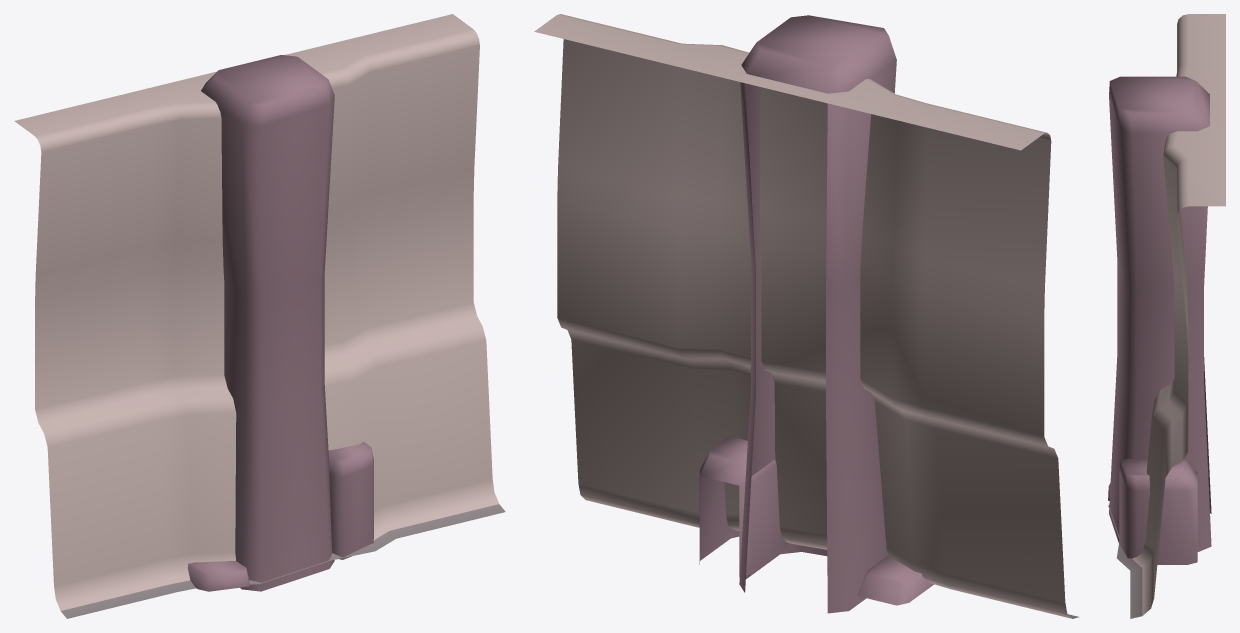
The model's file is 1_Wall_1.glb.
The picture shows the model from 3 angles, left to right: view 1: azimuth 30°, elevation 25°; view 2: azimuth 150°, elevation 25°; view 3: azimuth 270°, elevation 25°; orthographic projection. The views are drawn at different scales.
Visible parts, largest first — view 1: 1_Wall1; view 2: 1_Wall1; view 3: 1_Wall1.
Part boxes in pixels (x1,y1,x2,y2): 1_Wall1: (14, 14, 505, 618); 1_Wall1: (534, 14, 1079, 618); 1_Wall1: (1108, 14, 1225, 618).
Size of the model in its own units: 4 by 4.22 by 1.04.
